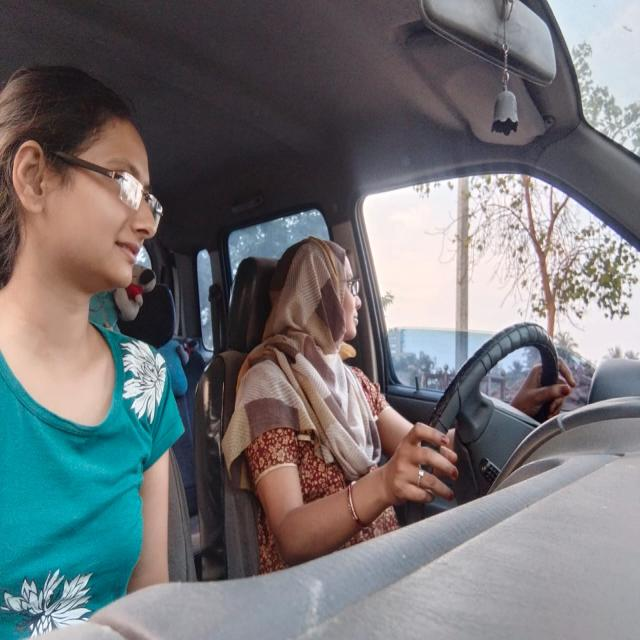LeftRight: (279, 227, 381, 384)
person: (1, 61, 170, 312)
